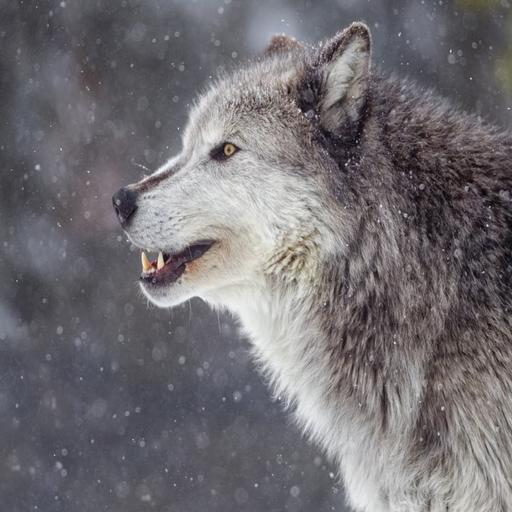Wolf: (103, 18, 512, 511)
